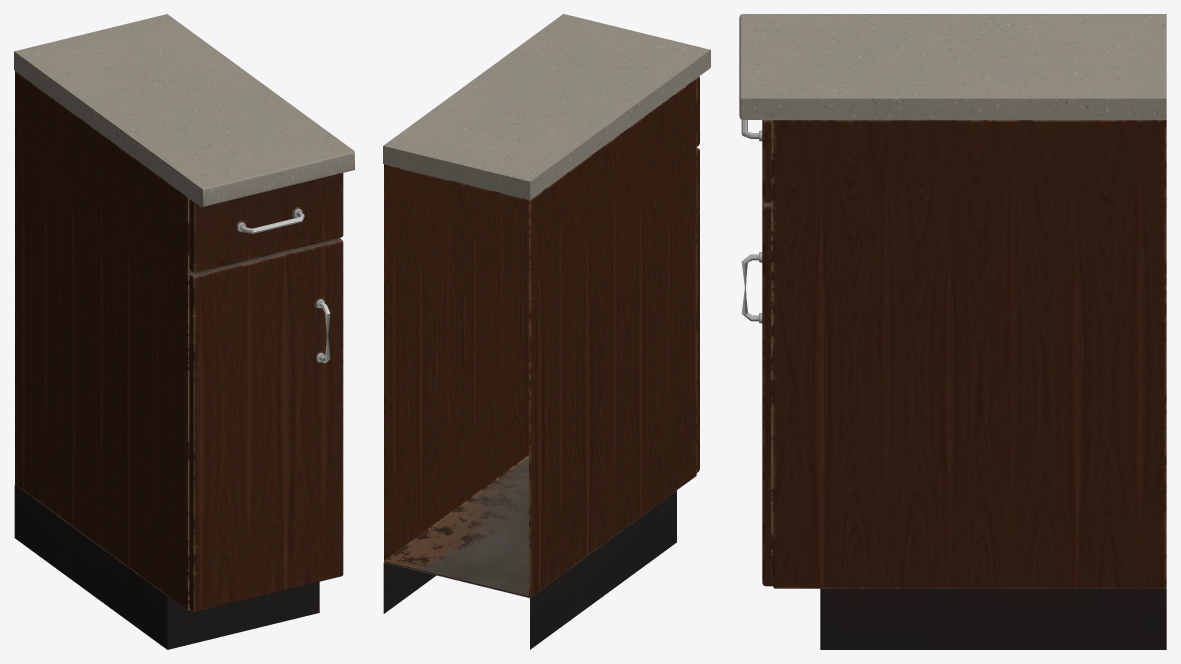
Rendered from kit_base_30.glb.
3 renders of one model, left to right at view 1: azimuth 30°, elevation 25°; view 2: azimuth 150°, elevation 25°; view 3: azimuth 270°, elevation 25°, orthographic. The views are drawn at different scales.
Parts seen in each view (by area): view 1: kit_base_30; view 2: kit_base_30; view 3: kit_base_30.
Boxes of the visible parts, x1,y1,x2,y2 form: kit_base_30: [14, 14, 354, 649]; kit_base_30: [383, 14, 710, 649]; kit_base_30: [739, 14, 1166, 649].
Size of the model in its own units: 0.298 by 0.905 by 0.635.
Materials: 1 (1 with a texture image).
